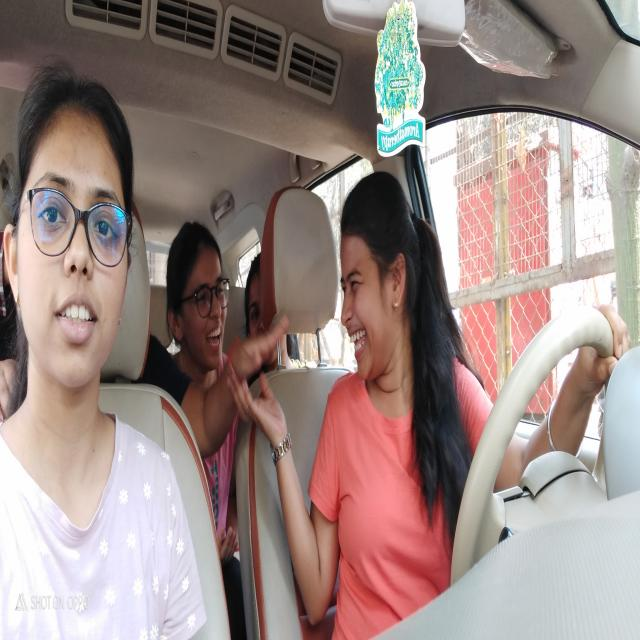LeftRight: (339, 165, 417, 384)
person: (8, 72, 136, 407), (165, 212, 230, 376), (244, 244, 276, 357)
talking: (345, 326, 369, 362)
